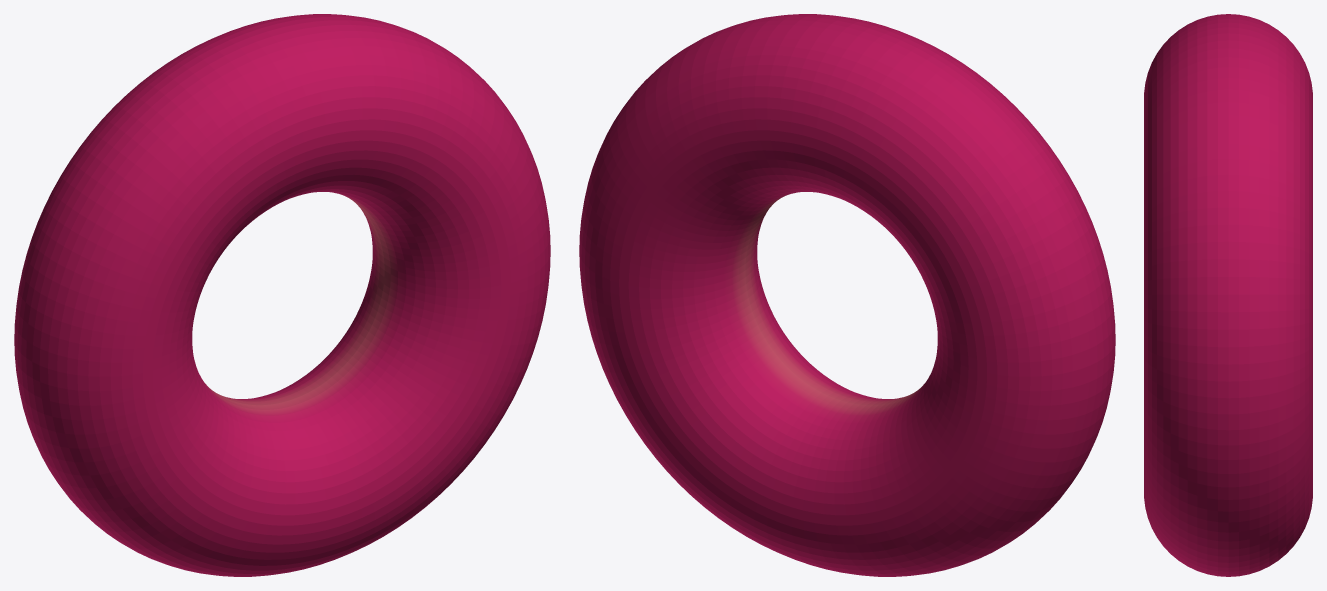
The picture shows the model from 3 angles, left to right: view 1: azimuth 30°, elevation 25°; view 2: azimuth 150°, elevation 25°; view 3: azimuth 270°, elevation 25°; orthographic projection. The views are drawn at different scales.
Visible parts, largest first — view 1: world; view 2: world; view 3: world.
Part boxes in pixels (<box>): world: <box>14,14,550,576</box>; world: <box>579,14,1115,576</box>; world: <box>1144,14,1312,576</box>.
Size of the model in its own units: 19.07 by 19.07 by 5.72.
